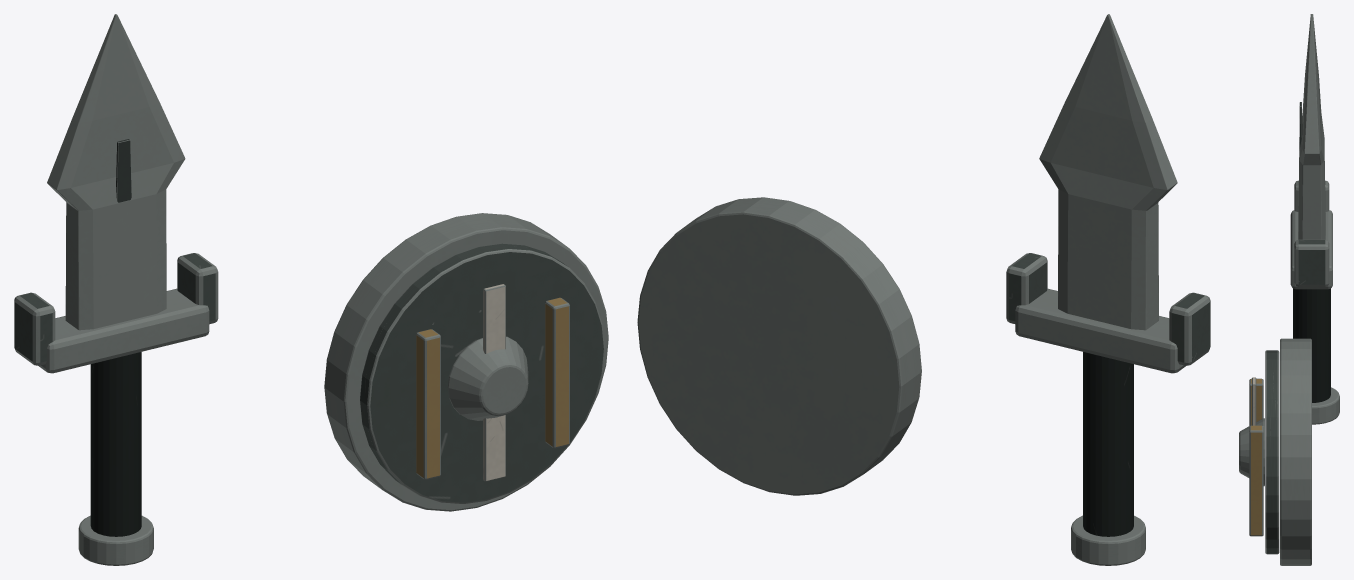
Rendered from sword_shield-t3.glb.
3 renders of one model, left to right at view 1: azimuth 30°, elevation 25°; view 2: azimuth 150°, elevation 25°; view 3: azimuth 270°, elevation 25°, orthographic. The views are drawn at different scales.
Parts seen in each view (by area): view 1: Buckler painted face, Forged blade, Buckler steel rim, Wrapped handle, Crossguard, Buckler central boss, Shield layered rib.001, Shield layered rib, Shield centre stripe, Weighted pommel, Guard return, Guard return.001 (+1 smaller); view 2: Buckler steel rim, Forged blade, Wrapped handle, Crossguard, Guard return, Weighted pommel, Guard return.001; view 3: Buckler steel rim, Forged blade, Wrapped handle, Buckler painted face, Guard return.001, Shield layered rib.001, Crossguard, Weighted pommel, Buckler central boss, Shield layered rib, Guard return, Shield centre stripe.
Part boxes in pixels (left/top/right/bottom): Buckler painted face: left=360, top=243, right=604, bottom=504; Forged blade: left=47, top=14, right=185, bottom=330; Buckler steel rim: left=324, top=213, right=608, bottom=511; Wrapped handle: left=90, top=352, right=141, bottom=536; Crossguard: left=38, top=288, right=209, bottom=373; Buckler central boss: left=447, top=336, right=528, bottom=420; Shield layered rib.001: left=545, top=297, right=569, bottom=448; Shield layered rib: left=416, top=329, right=440, bottom=479; Shield centre stripe: left=483, top=284, right=505, bottom=481; Weighted pommel: left=78, top=515, right=153, bottom=565; Guard return: left=14, top=292, right=55, bottom=365; Guard return.001: left=177, top=253, right=218, bottom=324; Buckler steel rim: left=637, top=197, right=921, bottom=495; Forged blade: left=1039, top=14, right=1177, bottom=330; Wrapped handle: left=1083, top=352, right=1133, bottom=536; Crossguard: left=1015, top=288, right=1186, bottom=373; Guard return: left=1169, top=292, right=1210, bottom=365; Weighted pommel: left=1071, top=515, right=1145, bottom=565; Guard return.001: left=1006, top=253, right=1047, bottom=323; Buckler steel rim: left=1280, top=338, right=1311, bottom=565; Forged blade: left=1298, top=14, right=1325, bottom=239; Wrapped handle: left=1293, top=288, right=1330, bottom=402; Buckler painted face: left=1265, top=350, right=1279, bottom=554; Guard return.001: left=1294, top=239, right=1329, bottom=286; Shield layered rib.001: left=1249, top=425, right=1263, bottom=536; Crossguard: left=1290, top=210, right=1332, bottom=289; Weighted pommel: left=1312, top=387, right=1339, bottom=424; Buckler central boss: left=1239, top=418, right=1264, bottom=486; Shield layered rib: left=1249, top=378, right=1263, bottom=425; Guard return: left=1294, top=180, right=1329, bottom=211; Shield centre stripe: left=1252, top=377, right=1256, bottom=425.
Bounding box in the file's own units: 1.66 × 1.58 × 0.346.
6 materials, 6 textured.
